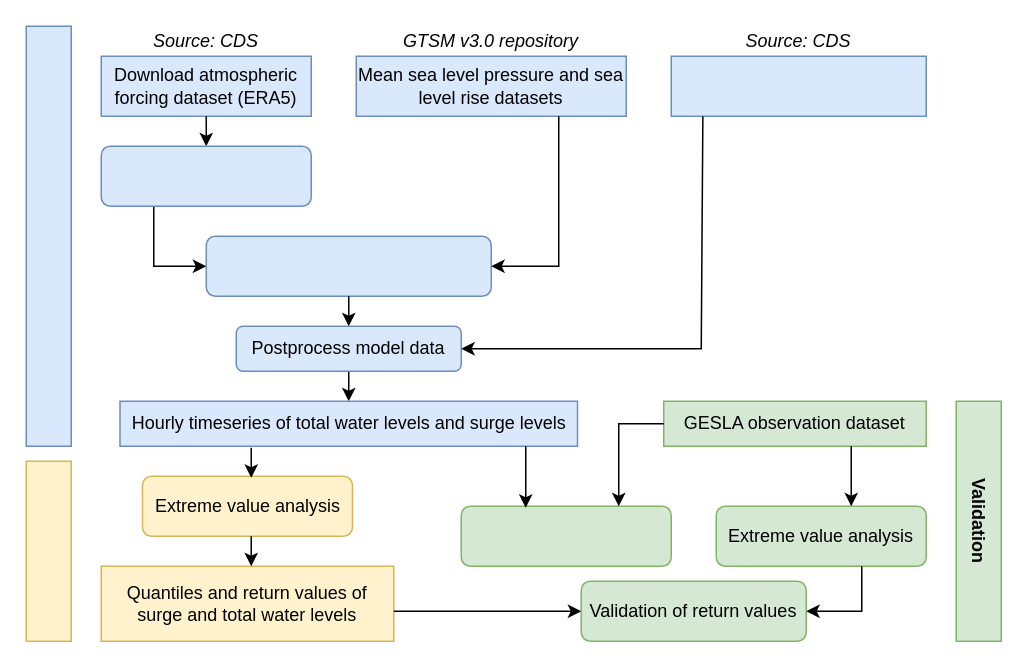
Image size: 1028x668. Some labels were removed from this diagram. Each missing label, with the box of its shape:
Analysis: (25, 460, 71, 641)
Download historical tidal elevation dataset: (670, 55, 926, 116)
Model simulations: (25, 25, 71, 446)
Preprocess atmospheric forcing: (100, 145, 311, 206)
Set-up and execute GTSM v3.0 model simulations: (205, 235, 491, 296)
Validation of timeseries: (460, 505, 671, 566)
